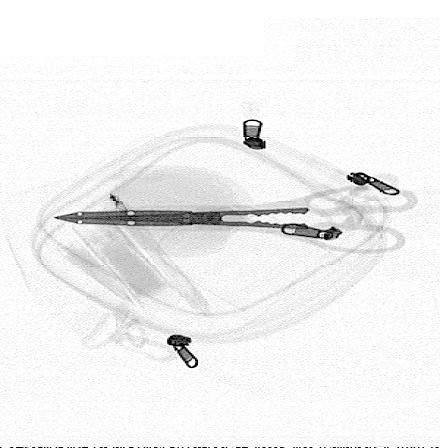Scissors: (40, 185, 425, 256)
